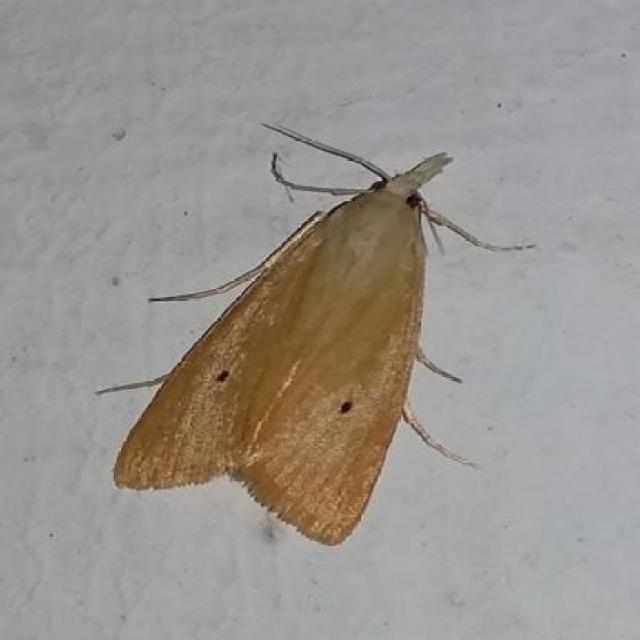stem-borer: (92, 115, 543, 551)
